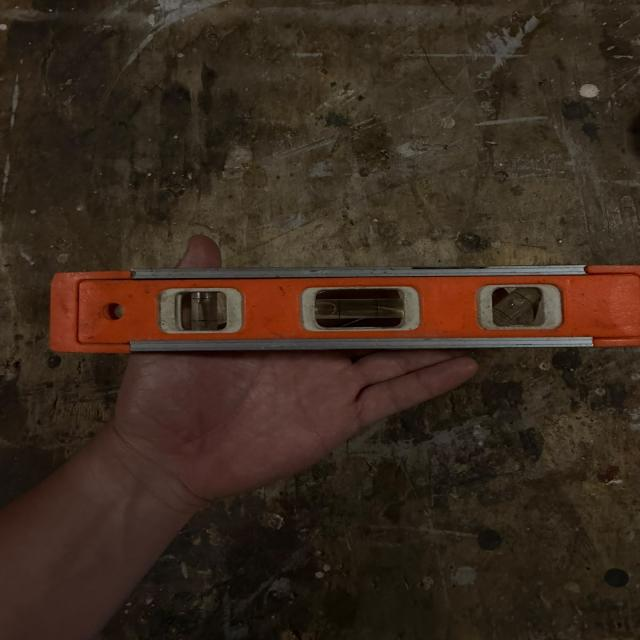Nivel: (45, 234, 640, 426)
